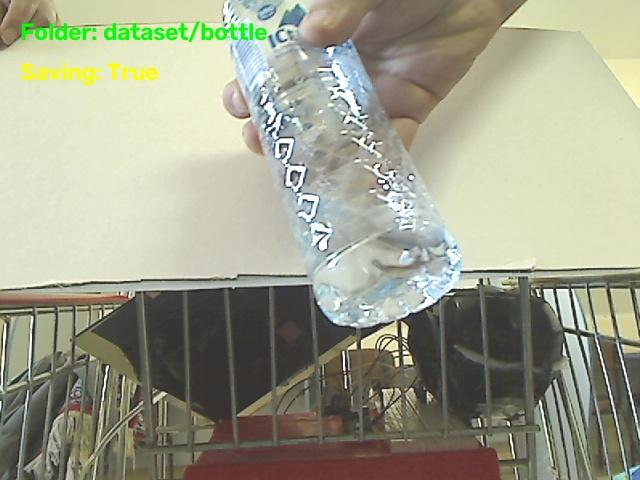Bottle: (224, 0, 461, 326)
